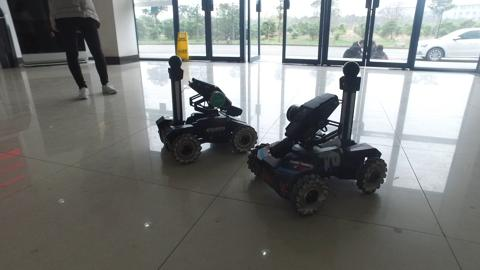chariot: (248, 59, 385, 229), (148, 51, 262, 168)
